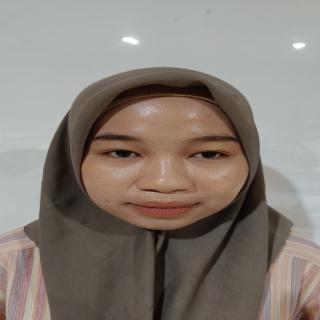Netral: (76, 84, 254, 236)
